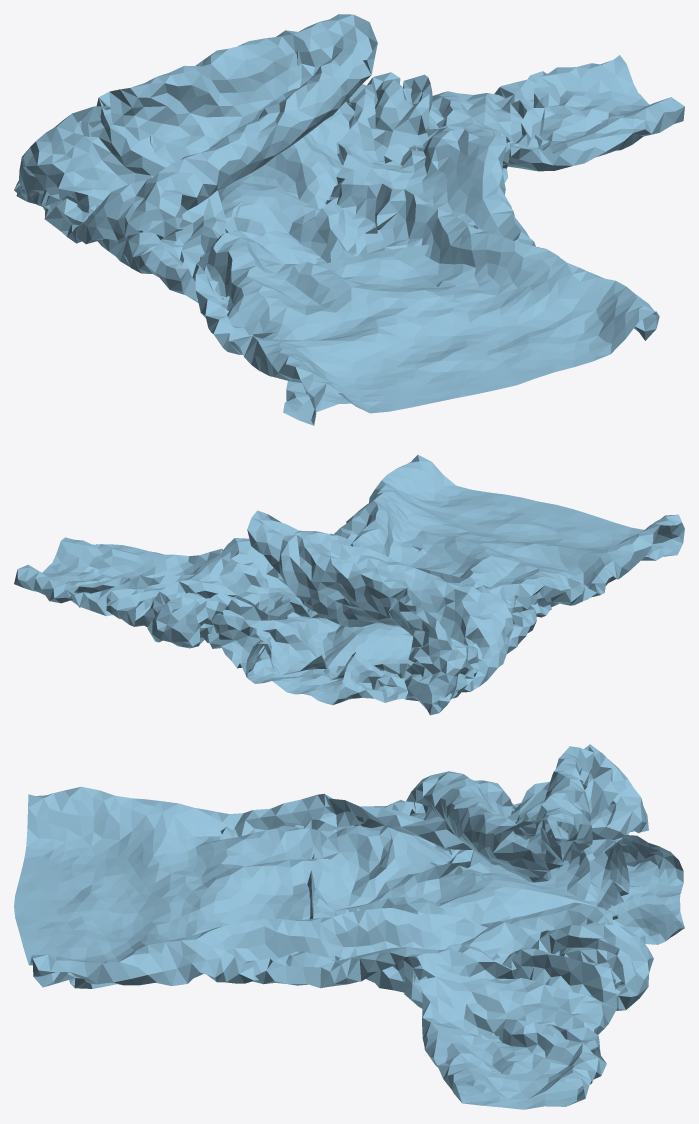
The model's file is frame_18.glb.
3 renders of one model, top to bottom at view 1: azimuth 30°, elevation 25°; view 2: azimuth 150°, elevation 25°; view 3: azimuth 270°, elevation 25°, orthographic. The views are drawn at different scales.
Parts seen in each view (by area): view 1: frame_18.obj; view 2: frame_18.obj; view 3: frame_18.obj.
Boxes of the visible parts, x1,y1,x2,y2 form: frame_18.obj: (14, 14, 684, 425); frame_18.obj: (14, 454, 684, 715); frame_18.obj: (14, 744, 684, 1109).
Size of the model in its own units: 1.38 by 0.3478 by 1.35.
